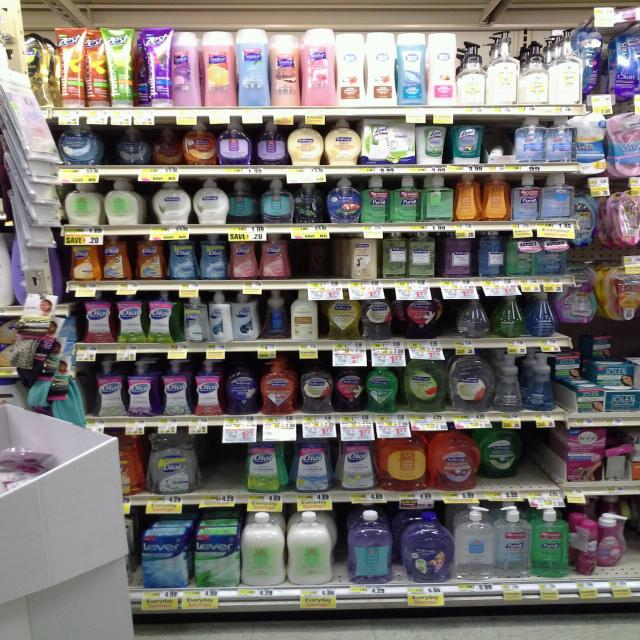void: (528, 423, 566, 489), (207, 427, 241, 495)
